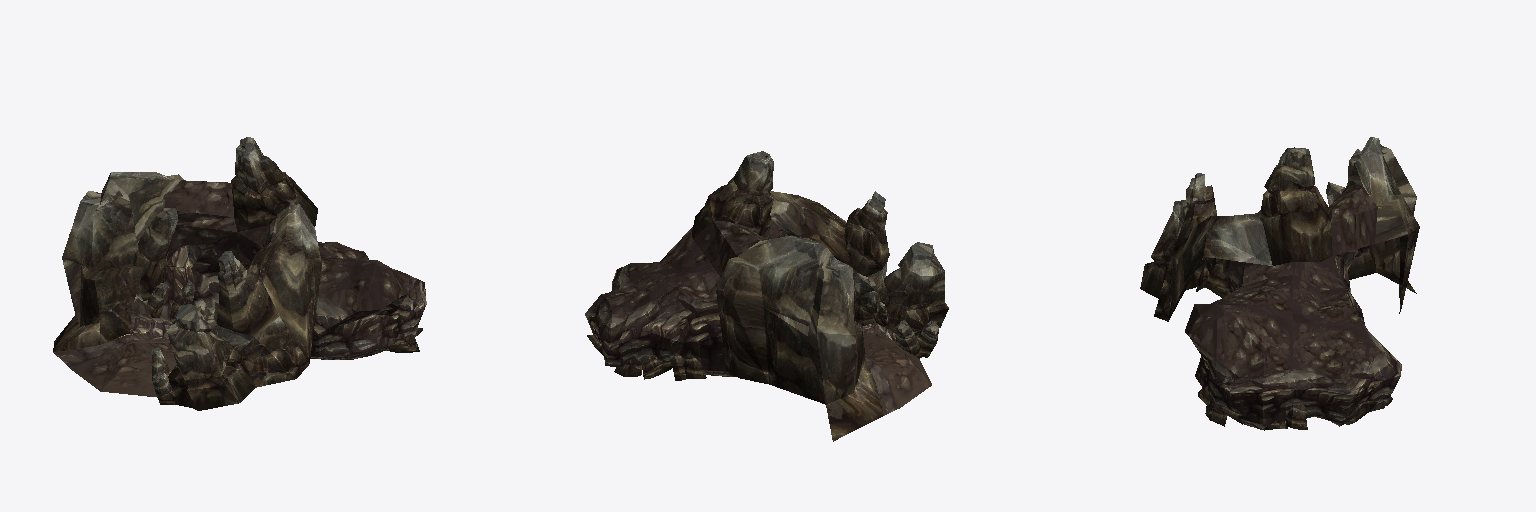
3 views of the same model, side by side, from view 1: azimuth 30°, elevation 25°; view 2: azimuth 150°, elevation 25°; view 3: azimuth 270°, elevation 25° (orthographic).
Visible parts, largest first — view 1: boreanmagnataurmicro_1room_set0; view 2: boreanmagnataurmicro_1room_set0; view 3: boreanmagnataurmicro_1room_set0.
Boxes of the visible parts, x1,y1,x2,y2 form: boreanmagnataurmicro_1room_set0: [53, 137, 426, 410]; boreanmagnataurmicro_1room_set0: [585, 151, 948, 441]; boreanmagnataurmicro_1room_set0: [1140, 137, 1419, 430].
Bounding box in the file's own units: 70.55 × 46.13 × 53.39.
5 materials, 5 textured.